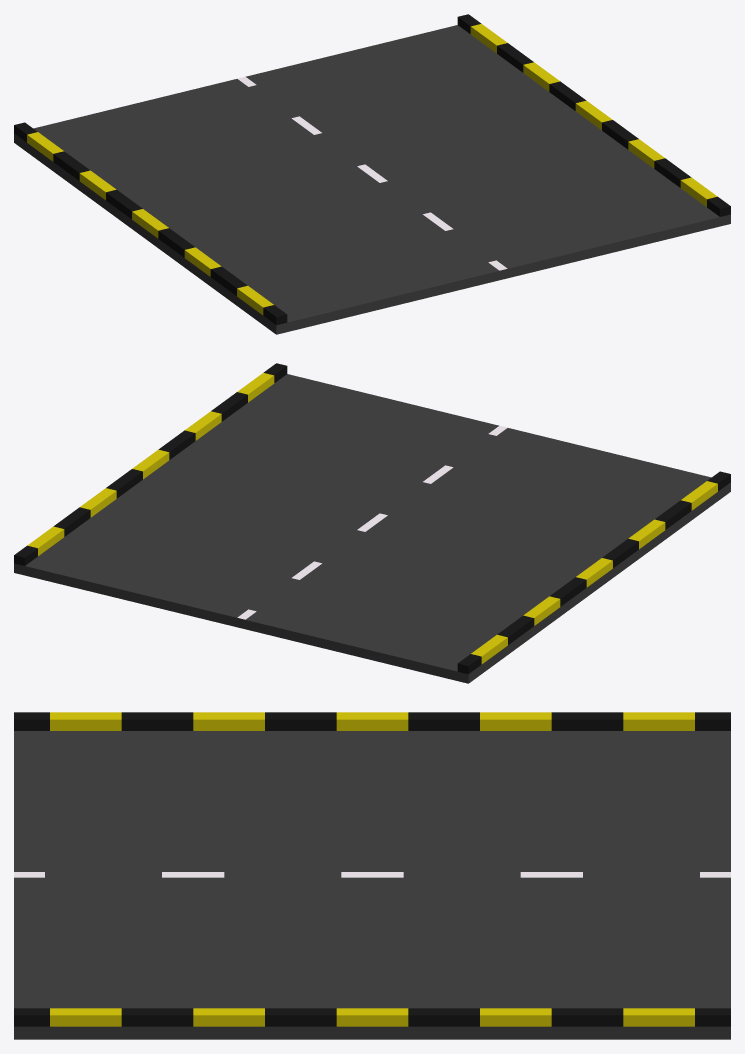
File: single_road_straight.glb
The picture shows the model from 3 angles, top to bottom: view 1: azimuth 30°, elevation 25°; view 2: azimuth 150°, elevation 25°; view 3: azimuth 270°, elevation 25°; orthographic projection. The views are drawn at different scales.
Parts seen in each view (by area): view 1: Cube, Sidewalk.006, Sidewalk.001, Cube.003; view 2: Cube, Sidewalk.006, Sidewalk.001, Cube.003; view 3: Cube, Sidewalk.006, Sidewalk.001, Cube.003.
Part boxes in pixels (x1,y1,x2,y2): Cube: [14, 25, 730, 334]; Sidewalk.006: [14, 122, 287, 325]; Sidewalk.001: [457, 14, 730, 216]; Cube.003: [237, 76, 507, 270]; Cube: [14, 374, 730, 683]; Sidewalk.006: [457, 471, 730, 674]; Sidewalk.001: [14, 363, 287, 565]; Cube.003: [237, 425, 507, 619]; Cube: [14, 731, 730, 1039]; Sidewalk.006: [14, 712, 730, 730]; Sidewalk.001: [14, 1008, 730, 1026]; Cube.003: [14, 872, 730, 877].
Size of the model in its own units: 2 by 0.0741 by 2.
